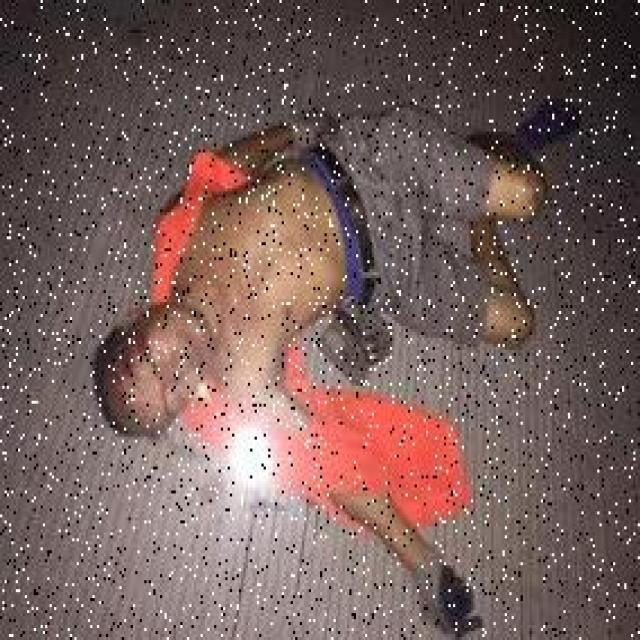fall: (92, 86, 580, 494)
